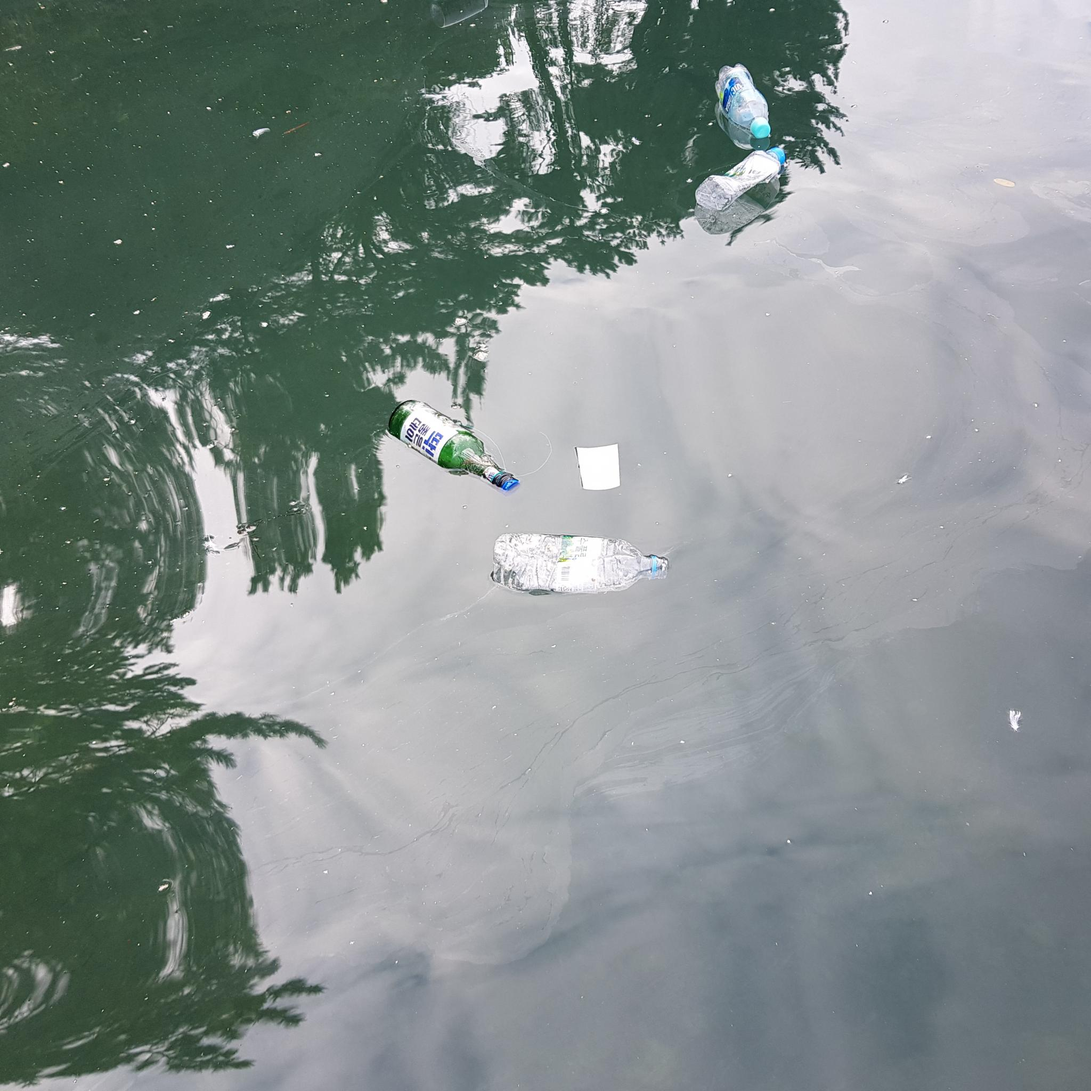sampah_terapung: (389, 401, 520, 492), (493, 534, 669, 595), (695, 148, 786, 211), (715, 64, 771, 139)
